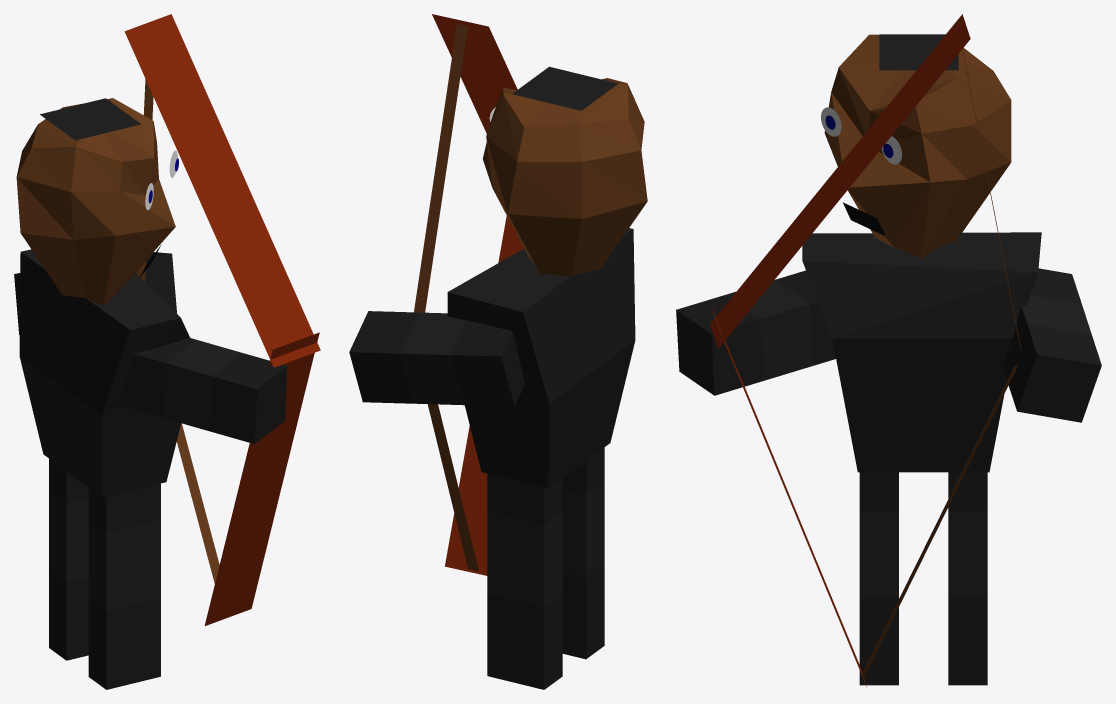
The model's file is heavyarcher1f.obj.
The picture shows the model from 3 angles, left to right: view 1: azimuth 30°, elevation 25°; view 2: azimuth 150°, elevation 25°; view 3: azimuth 270°, elevation 25°; orthographic projection. The views are drawn at different scales.
Parts seen in each view (by area): view 1: Cube.001, Cube, Plane.002_Plane.003, Cube.004, Cube.003, Plane.001_Plane.002, Cube.005, Plane.004_Plane.001, Plane.003_Plane.004, Cube.002; view 2: Cube.001, Cube, Cube.005, Cube.002, Cube.004, Plane.003_Plane.004, Plane.001_Plane.002, Plane.002_Plane.003, Plane.004_Plane.001; view 3: Cube.001, Cube, Cube.003, Cube.002, Plane.002_Plane.003, Cube.005, Cube.004, Plane.004_Plane.001, Plane.003_Plane.004, Plane.001_Plane.002.
Boxes of the visible parts, bbox=[...] form: Cube.001: bbox=[19, 249, 189, 497]; Cube: bbox=[16, 98, 175, 304]; Plane.002_Plane.003: bbox=[124, 14, 320, 367]; Cube.004: bbox=[88, 483, 160, 689]; Cube.003: bbox=[119, 337, 287, 444]; Plane.001_Plane.002: bbox=[204, 332, 319, 625]; Cube.005: bbox=[49, 458, 88, 660]; Plane.004_Plane.001: bbox=[40, 98, 140, 140]; Plane.003_Plane.004: bbox=[136, 30, 219, 583]; Cube.002: bbox=[14, 252, 176, 334]; Cube.001: bbox=[447, 228, 635, 488]; Cube: bbox=[483, 78, 647, 275]; Cube.005: bbox=[487, 473, 562, 689]; Cube.002: bbox=[349, 311, 524, 406]; Cube.004: bbox=[562, 447, 604, 659]; Plane.003_Plane.004: bbox=[414, 24, 478, 571]; Plane.001_Plane.002: bbox=[445, 216, 523, 575]; Plane.002_Plane.003: bbox=[432, 14, 517, 133]; Plane.004_Plane.001: bbox=[512, 66, 618, 110]; Cube.001: bbox=[802, 232, 1041, 472]; Cube: bbox=[824, 34, 1011, 258]; Cube.003: bbox=[676, 270, 835, 395]; Cube.002: bbox=[1002, 268, 1101, 422]; Plane.002_Plane.003: bbox=[710, 14, 970, 348]; Cube.005: bbox=[948, 472, 987, 685]; Cube.004: bbox=[859, 472, 898, 685]; Plane.004_Plane.001: bbox=[879, 34, 958, 70]; Plane.003_Plane.004: bbox=[863, 49, 1021, 676]; Plane.001_Plane.002: bbox=[711, 305, 866, 686].
Bounding box in the file's own units: 2.42 × 6.6 × 3.75.
